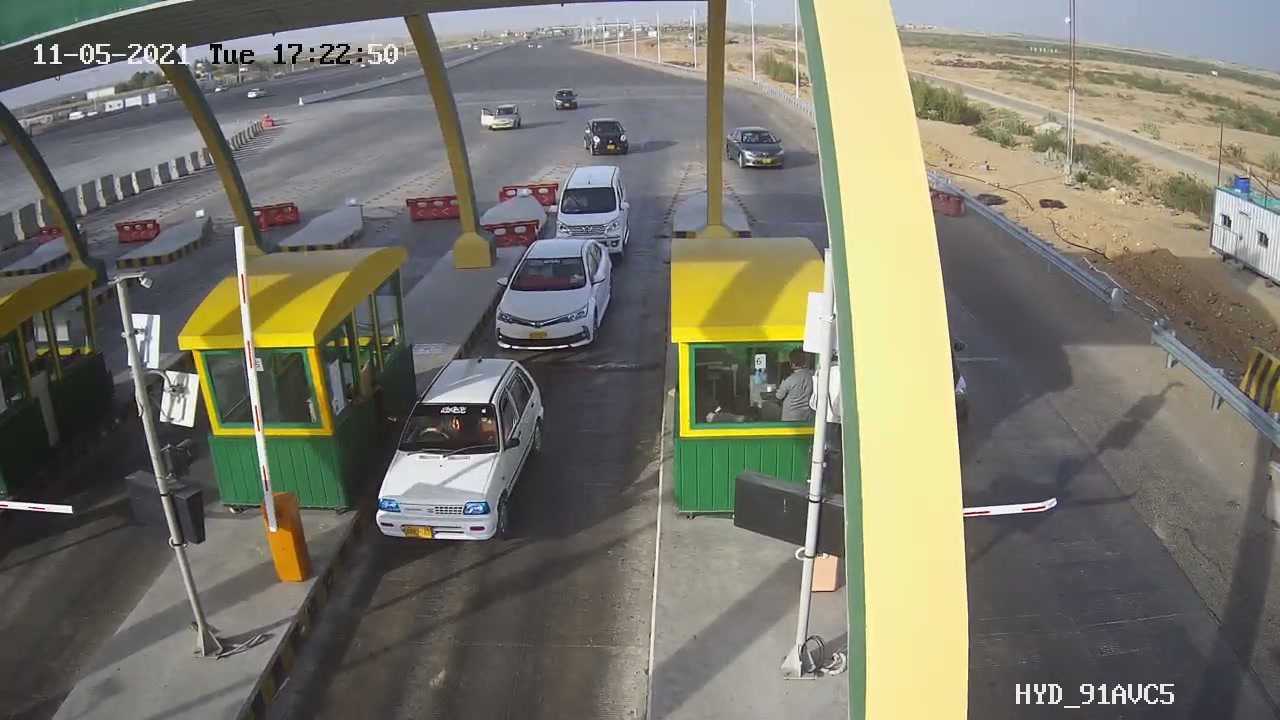F1: (360, 343, 565, 564), (478, 226, 637, 361)
